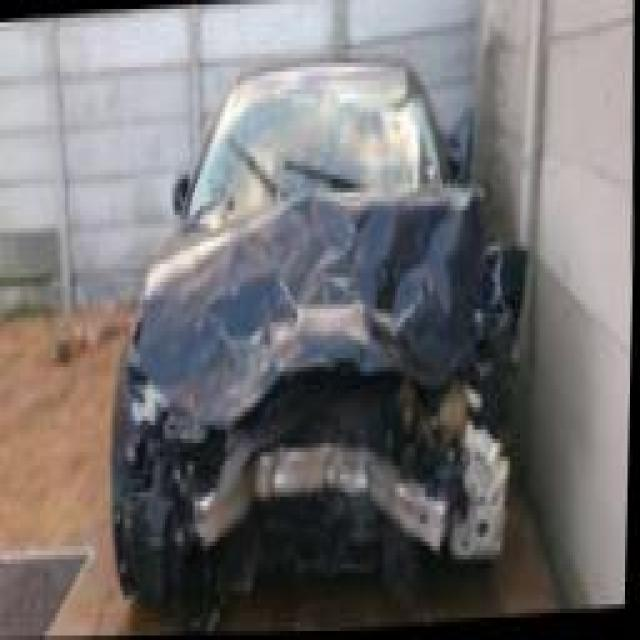Bonnet: (162, 188, 482, 400)
Bumper: (108, 421, 524, 631)
Fender: (480, 224, 538, 391)
Light: (120, 371, 199, 436), (418, 358, 494, 422)
